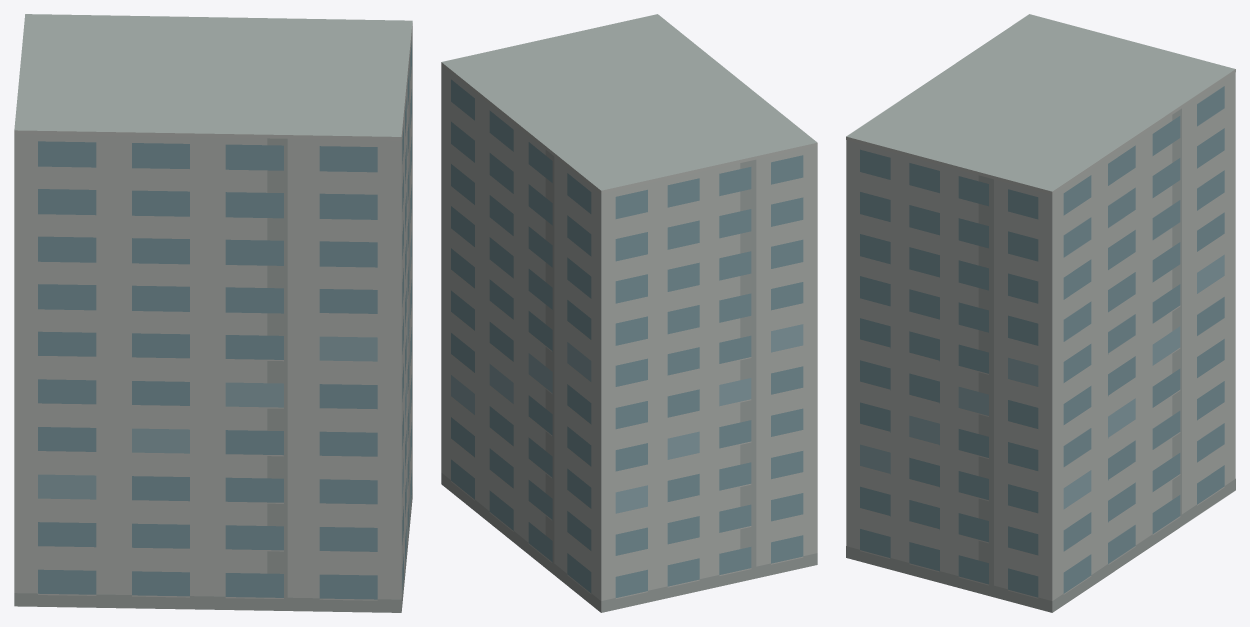
The model's file is residential-700c2fec-1f30-40cc-aebe-cf26b2577547.glb.
3 renders of one model, left to right at view 1: azimuth 30°, elevation 25°; view 2: azimuth 150°, elevation 25°; view 3: azimuth 270°, elevation 25°, orthographic. The views are drawn at different scales.
Visible parts, largest first — view 1: residential-700c2fec-1f30-40cc-aebe-cf26b2577547.tmp; view 2: residential-700c2fec-1f30-40cc-aebe-cf26b2577547.tmp; view 3: residential-700c2fec-1f30-40cc-aebe-cf26b2577547.tmp.
Boxes of the visible parts, x1,y1,x2,y2 form: residential-700c2fec-1f30-40cc-aebe-cf26b2577547.tmp: (14, 14, 412, 612); residential-700c2fec-1f30-40cc-aebe-cf26b2577547.tmp: (441, 14, 817, 612); residential-700c2fec-1f30-40cc-aebe-cf26b2577547.tmp: (846, 14, 1235, 612).
Size of the model in its own units: 28.04 by 31 by 25.99.
